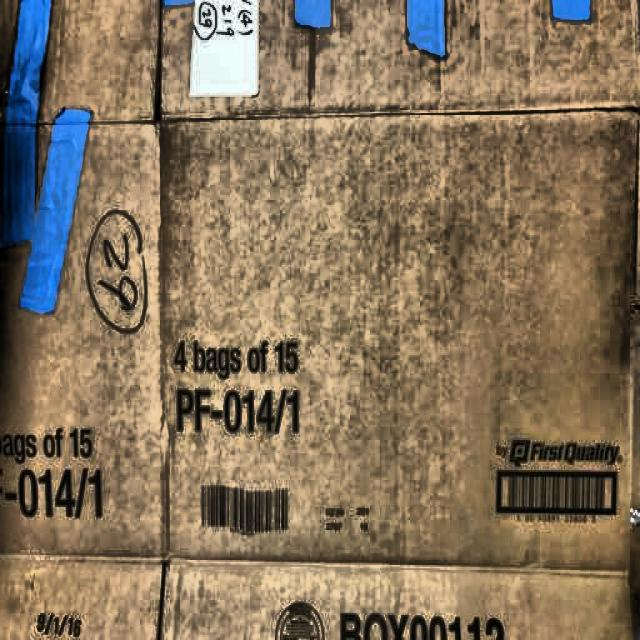cardboard: (6, 9, 634, 630)
